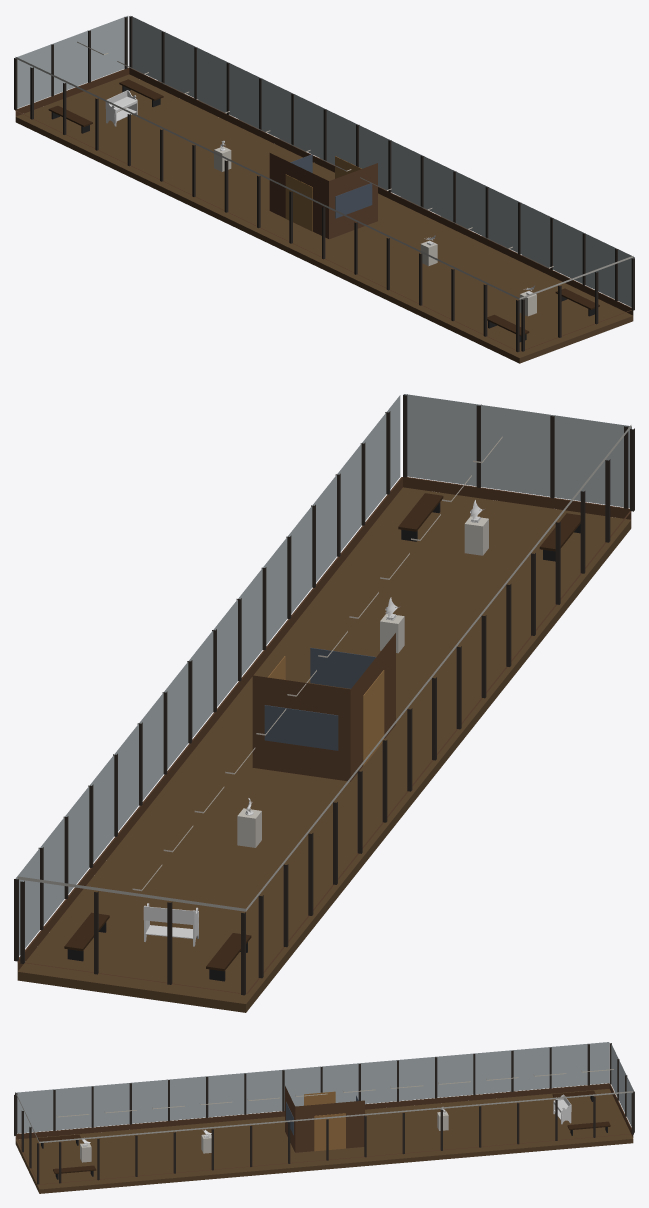
File: deYoung_int.glb
The picture shows the model from 3 angles, top to bottom: view 1: azimuth 30°, elevation 25°; view 2: azimuth 150°, elevation 25°; view 3: azimuth 270°, elevation 25°; orthographic projection. The views are drawn at different scales.
Visible parts, largest first — view 1: I_x_veneer, I_glassI, I_metal, I_x_plaster, I_x_gold, I_screen, I_d_x_plaster, I_p_painted_wooden_bench__0, I_lampI; view 2: I_x_veneer, I_glassI, I_metal, I_x_plaster, I_screen, I_d_x_plaster, I_x_gold, I_p_painted_wooden_bench__0; view 3: I_x_veneer, I_glassI, I_metal, I_x_plaster, I_x_gold, I_d_x_plaster, I_lampI, I_p_painted_wooden_bench__0.
Part boxes in pixels (x1=…): I_x_veneer: x1=15, y1=74, x2=633, y2=363; I_glassI: x1=15, y1=16, x2=634, y2=307; I_metal: x1=14, y1=16, x2=634, y2=352; I_x_plaster: x1=15, y1=57, x2=633, y2=351; I_x_gold: x1=285, y1=156, x2=361, y2=231; I_screen: x1=290, y1=154, x2=372, y2=218; I_d_x_plaster: x1=214, y1=146, x2=536, y2=316; I_p_painted_wooden_bench__0: x1=105, y1=90, x2=137, y2=126; I_lampI: x1=77, y1=41, x2=553, y2=268; I_x_veneer: x1=17, y1=487, x2=631, y2=1012; I_glassI: x1=15, y1=394, x2=631, y2=955; I_metal: x1=14, y1=394, x2=634, y2=995; I_x_plaster: x1=17, y1=425, x2=631, y2=993; I_screen: x1=264, y1=647, x2=375, y2=750; I_d_x_plaster: x1=237, y1=516, x2=488, y2=847; I_x_gold: x1=268, y1=656, x2=384, y2=766; I_p_painted_wooden_bench__0: x1=143, y1=903, x2=198, y2=946; I_x_veneer: x1=15, y1=1089, x2=633, y2=1193; I_glassI: x1=16, y1=1042, x2=634, y2=1133; I_metal: x1=14, y1=1043, x2=634, y2=1184; I_x_plaster: x1=15, y1=1083, x2=633, y2=1184; I_x_gold: x1=304, y1=1091, x2=345, y2=1151; I_d_x_plaster: x1=80, y1=1111, x2=448, y2=1162; I_lampI: x1=56, y1=1069, x2=613, y2=1117; I_p_painted_wooden_bench__0: x1=553, y1=1094, x2=571, y2=1124.
Size of the model in its own units: 14.85 by 3.55 by 38.28.
